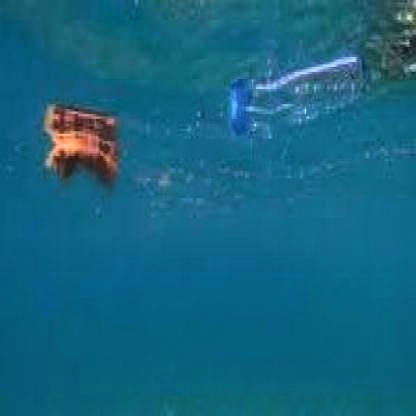misc: (39, 131, 125, 188)
pbottle: (225, 52, 376, 141)
